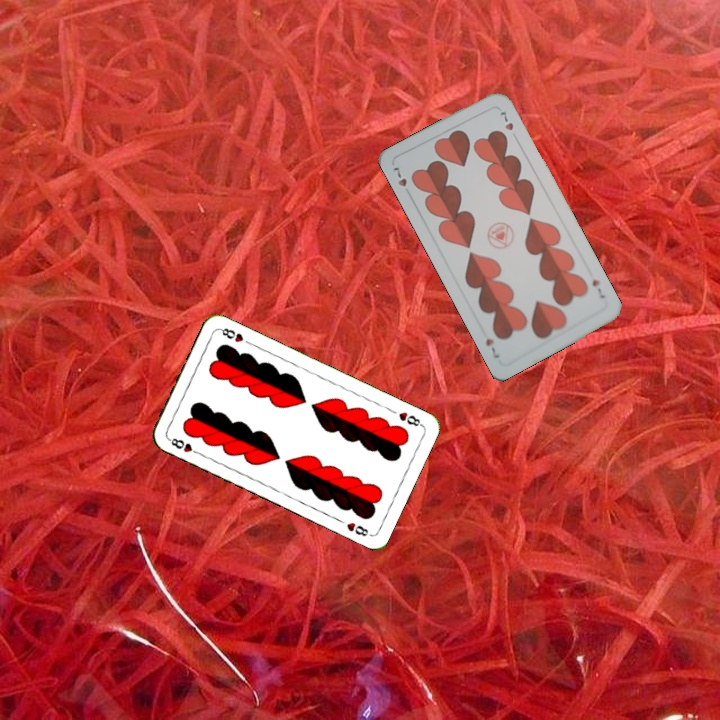H7: (389, 163, 409, 189), (588, 275, 608, 301)
H8: (164, 434, 203, 457), (394, 408, 425, 429)
